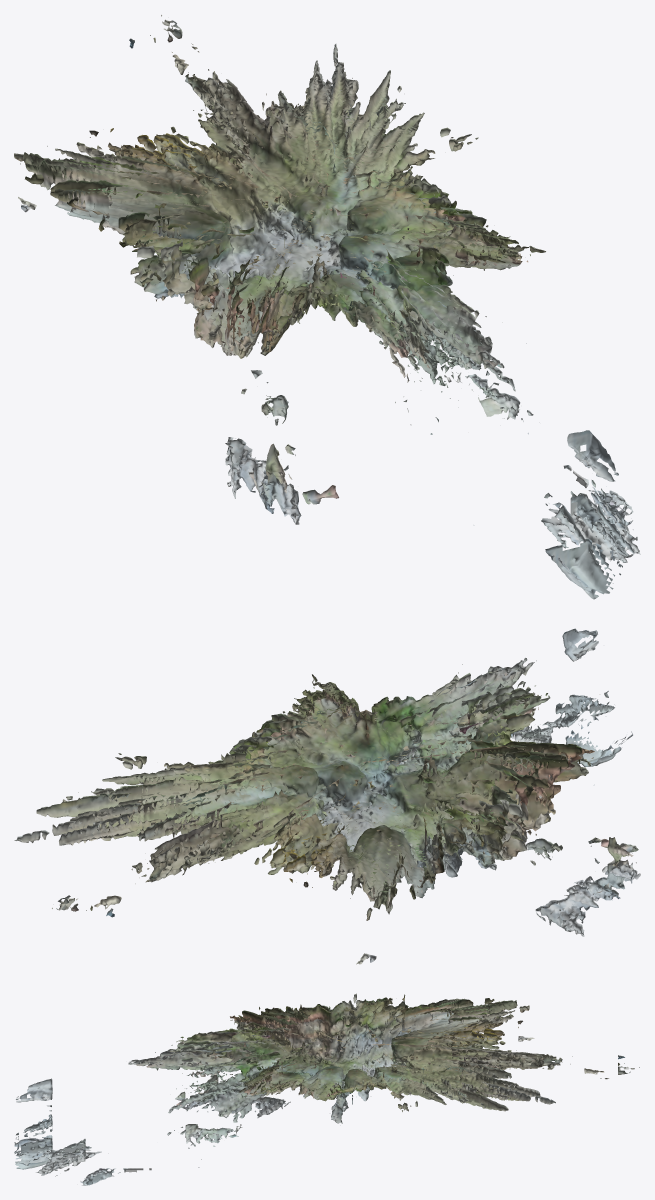
File: collider.glb
3 renders of one model, top to bottom at view 1: azimuth 30°, elevation 25°; view 2: azimuth 150°, elevation 25°; view 3: azimuth 270°, elevation 25°, orthographic. The views are drawn at different scales.
Visible parts, largest first — view 1: world; view 2: world; view 3: world.
Part boxes in pixels (bbox=[...]): world: bbox=[14, 15, 640, 599]; world: bbox=[14, 628, 640, 964]; world: bbox=[14, 993, 639, 1185].
Size of the model in its own units: 17.88 by 9.3 by 41.53.
